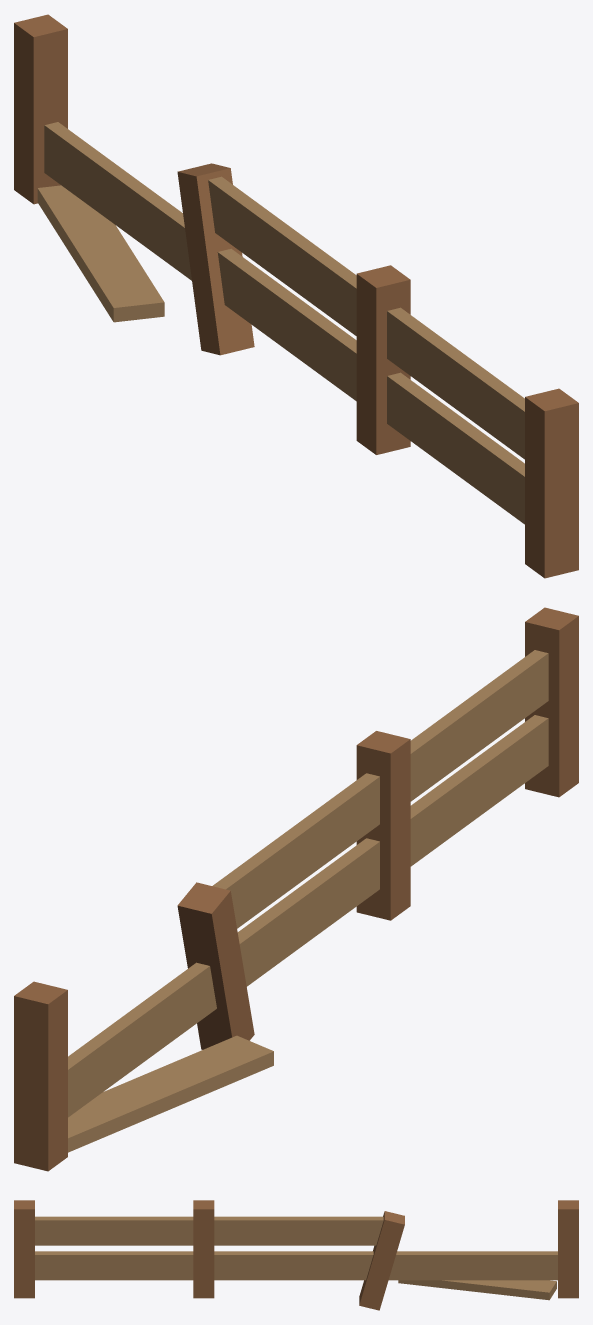
The model's file is desert fence 4.fbx.
The picture shows the model from 3 angles, top to bottom: view 1: azimuth 30°, elevation 25°; view 2: azimuth 150°, elevation 25°; view 3: azimuth 270°, elevation 25°; orthographic projection. The views are drawn at different scales.
Parts seen in each view (by area): view 1: polySurface83; view 2: polySurface83; view 3: polySurface83.
Boxes of the visible parts, bbox=[...] form: polySurface83: bbox=[14, 14, 578, 578]; polySurface83: bbox=[14, 607, 578, 1171]; polySurface83: bbox=[14, 1200, 578, 1310].
Bounding box in the file's own units: 2.41 × 3.99 × 20.14.
